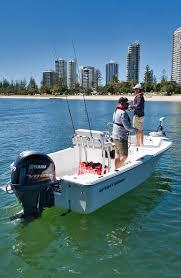fishing boat: (3, 81, 176, 225)
